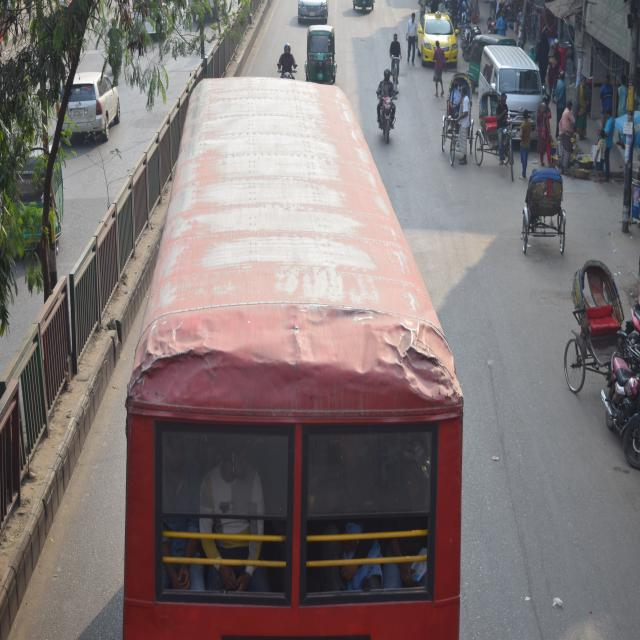bus: (129, 72, 469, 640)
car: (46, 75, 133, 149), (419, 10, 460, 72)
microbus: (476, 33, 562, 149)
motorbike: (376, 68, 410, 150)
